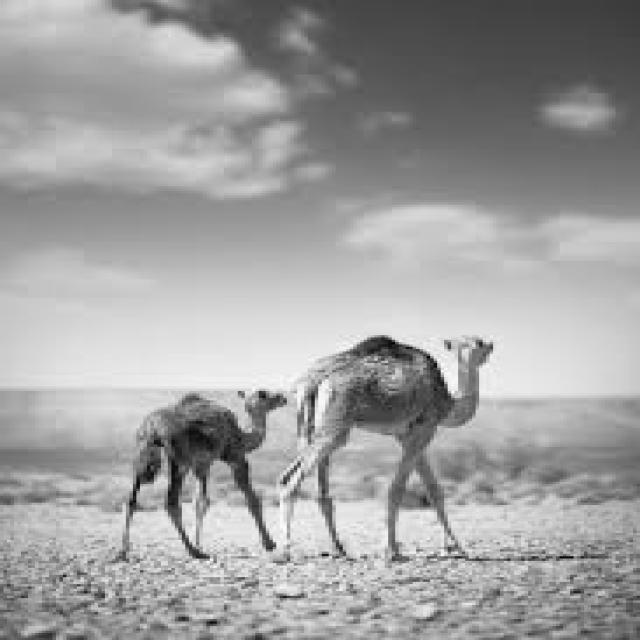Camel: (276, 333, 493, 561), (115, 386, 287, 561)
